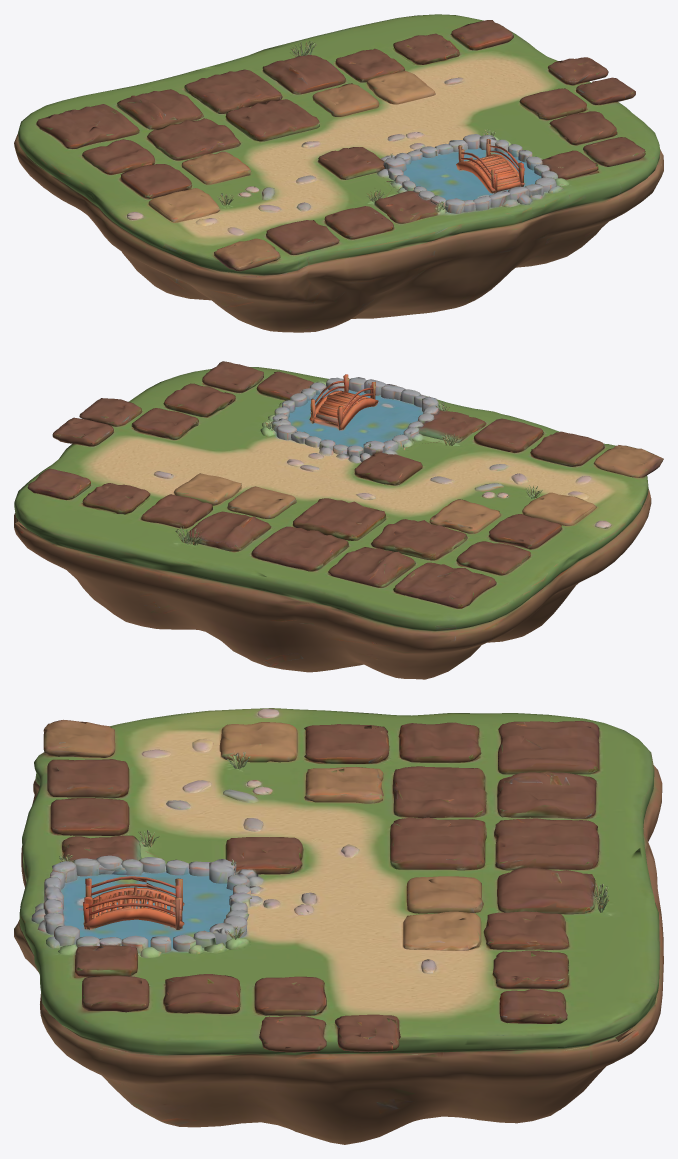
File: island.glb
3 views of the same model, one above another, from view 1: azimuth 30°, elevation 25°; view 2: azimuth 150°, elevation 25°; view 3: azimuth 270°, elevation 25° (orthographic). The views are drawn at different scales.
Size of the model in its own units: 0.9487 by 0.3252 by 0.751.
1 material, 1 textured.
